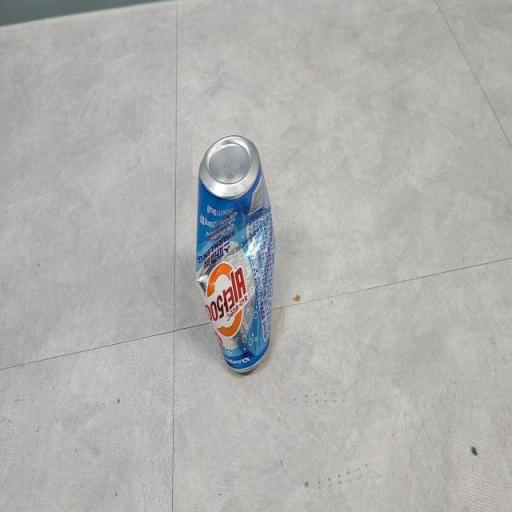metal: (184, 125, 286, 387)
